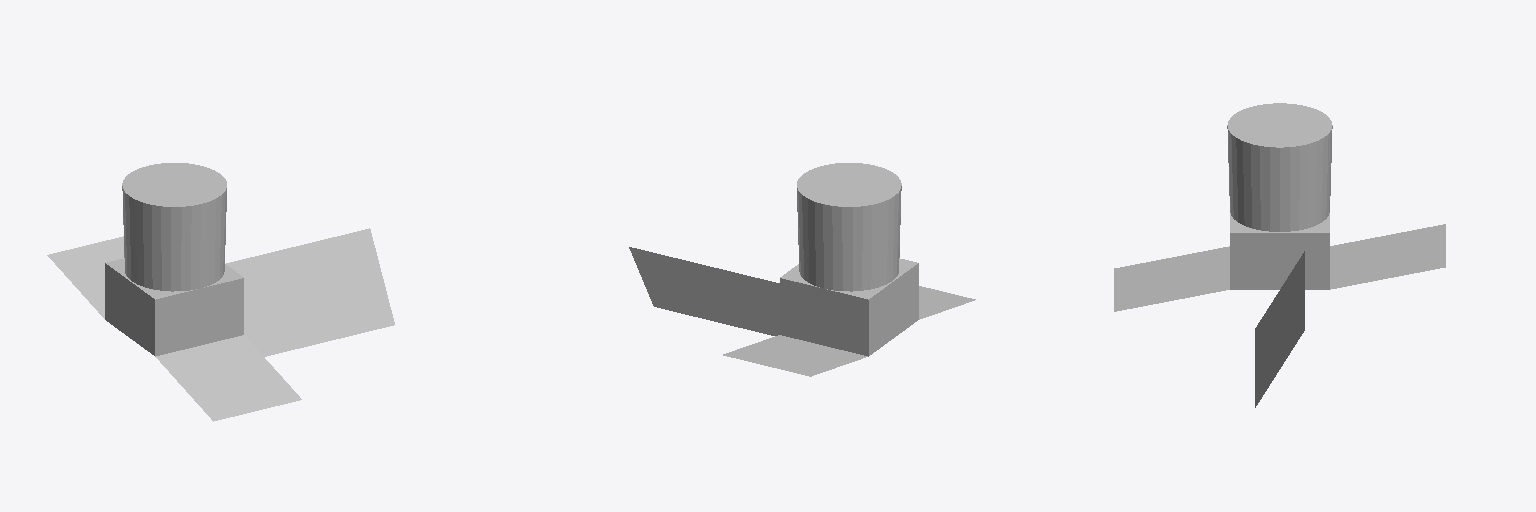
The model's file is CIV-Fr60-Sf12.obj.
3 views of the same model, side by side, from view 1: azimuth 30°, elevation 25°; view 2: azimuth 150°, elevation 25°; view 3: azimuth 270°, elevation 25° (orthographic).
Visible parts, largest first — view 1: 27U_combined_case_straight_solar.001, 27U_combined_case_straight_solar.000, 27U_combined_case_straight_solar.002, 27U_combined_case_straight_solar.003; view 2: 27U_combined_case_straight_solar.001, 27U_combined_case_straight_solar.000, 27U_combined_case_straight_solar.003, 27U_combined_case_straight_solar.002; view 3: 27U_combined_case_straight_solar.001, 27U_combined_case_straight_solar.002, 27U_combined_case_straight_solar.003, 27U_combined_case_straight_solar.000.
Boxes of the visible parts, box(x1,y1,x2,y2) form: 27U_combined_case_straight_solar.001: box(105, 163, 243, 356); 27U_combined_case_straight_solar.000: box(226, 228, 394, 356); 27U_combined_case_straight_solar.002: box(156, 335, 301, 421); 27U_combined_case_straight_solar.003: box(47, 236, 123, 318); 27U_combined_case_straight_solar.001: box(780, 163, 918, 356); 27U_combined_case_straight_solar.000: box(629, 247, 779, 335); 27U_combined_case_straight_solar.003: box(723, 335, 867, 376); 27U_combined_case_straight_solar.002: box(919, 286, 975, 319); 27U_combined_case_straight_solar.001: box(1227, 103, 1332, 289); 27U_combined_case_straight_solar.002: box(1114, 246, 1229, 311); 27U_combined_case_straight_solar.003: box(1330, 224, 1445, 289); 27U_combined_case_straight_solar.000: box(1255, 251, 1304, 407).
Size of the model in its own units: 1.02 by 0.7016 by 1.16.